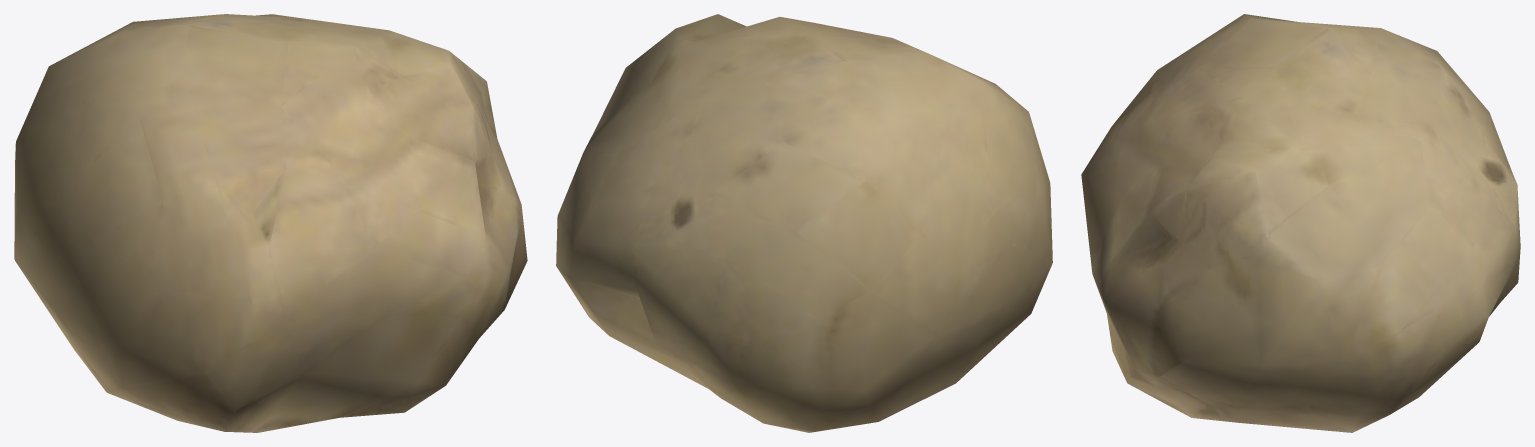
The model's file is rock1.glb.
3 views of the same model, side by side, from view 1: azimuth 30°, elevation 25°; view 2: azimuth 150°, elevation 25°; view 3: azimuth 270°, elevation 25° (orthographic). The views are drawn at different scales.
Parts seen in each view (by area): view 1: Mesh_0; view 2: Mesh_0; view 3: Mesh_0.
Boxes of the visible parts, box(x1,y1,x2,y2) form: Mesh_0: box(14, 14, 527, 432); Mesh_0: box(556, 14, 1052, 432); Mesh_0: box(1081, 14, 1520, 432).
Bounding box in the file's own units: 1.98 × 1.54 × 1.88.
1 material, 1 textured.
